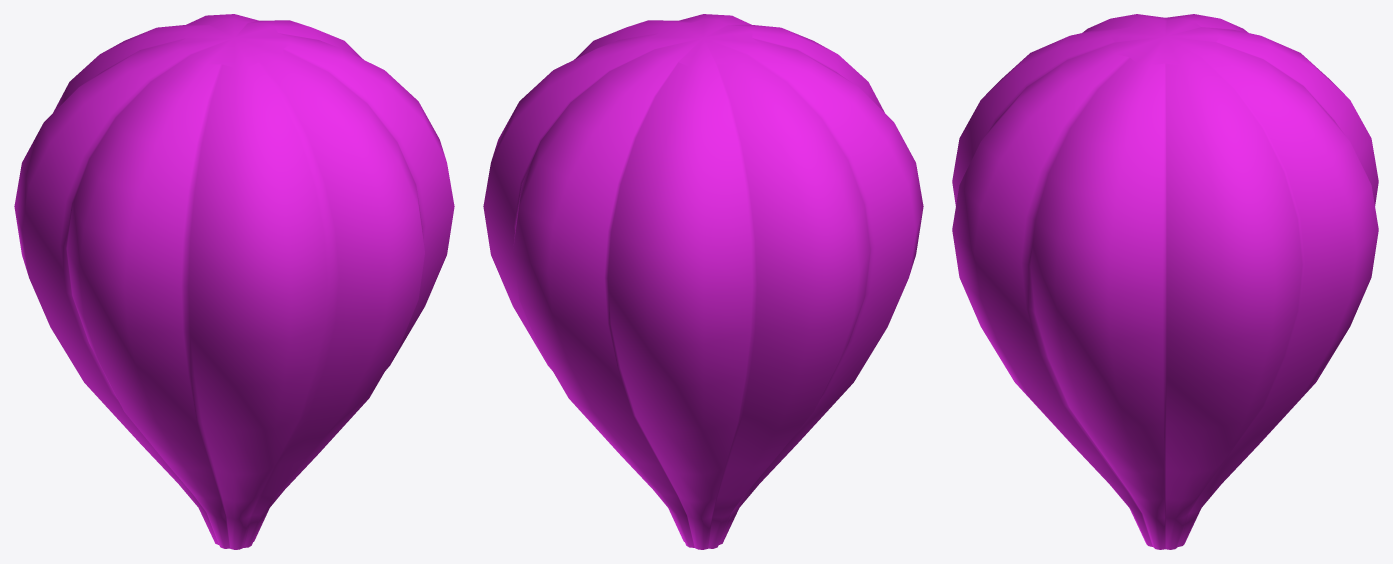
File: balloon.glb
3 views of the same model, side by side, from view 1: azimuth 30°, elevation 25°; view 2: azimuth 150°, elevation 25°; view 3: azimuth 270°, elevation 25° (orthographic).
Visible parts, largest first — view 1: Sphere; view 2: Sphere; view 3: Sphere.
Boxes of the visible parts, x1,y1,x2,y2 form: Sphere: [14, 14, 454, 549]; Sphere: [483, 14, 923, 549]; Sphere: [952, 14, 1378, 549].
Bounding box in the file's own units: 22.42 × 29.31 × 22.42.
